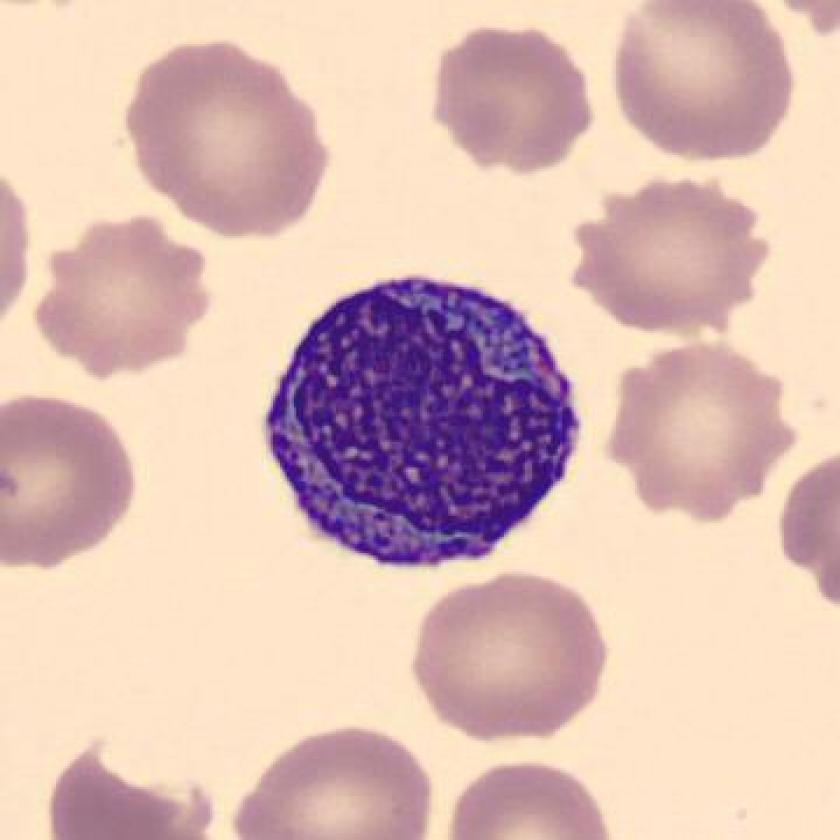monocyte: (244, 258, 603, 596)
